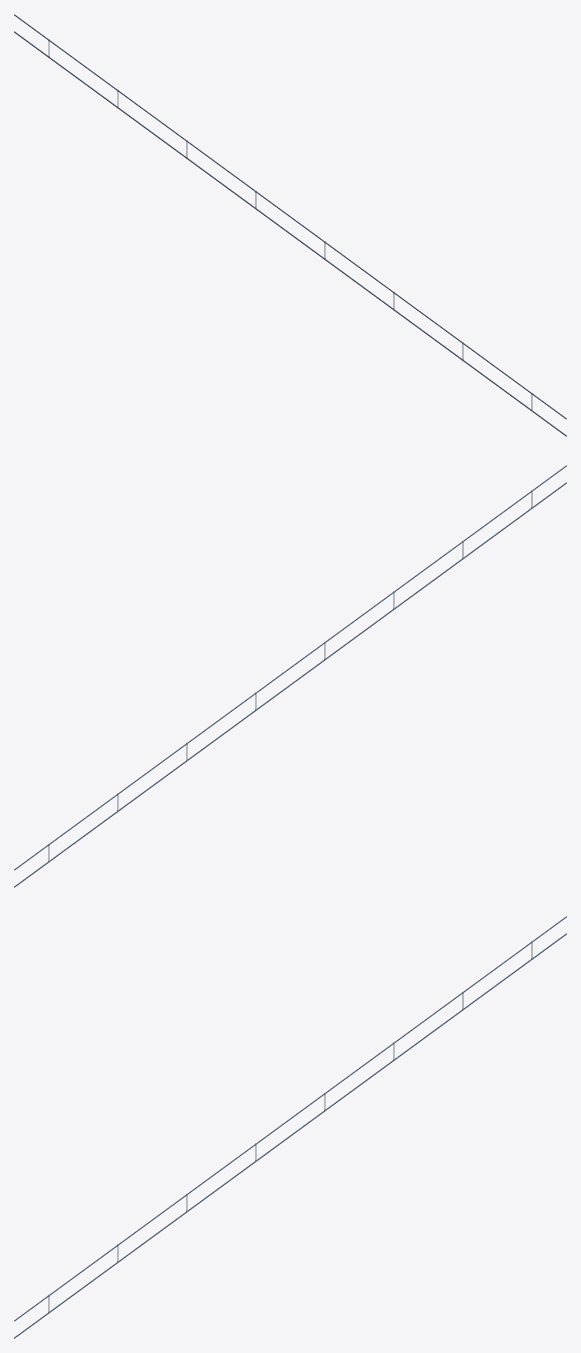
The model's file is catenaria_tramo.glb.
3 views of the same model, one above another, from view 1: azimuth 30°, elevation 25°; view 2: azimuth 150°, elevation 25°; view 3: azimuth 330°, elevation 25° (orthographic).
Visible parts, largest first — view 1: Catenaria_Tramo; view 2: Catenaria_Tramo; view 3: Catenaria_Tramo.
Boxes of the visible parts, x1,y1,x2,y2 form: Catenaria_Tramo: (14,14,566,436); Catenaria_Tramo: (14,465,566,887); Catenaria_Tramo: (14,916,566,1338).
Size of the model in its own units: 0.036 by 0.583 by 32.
